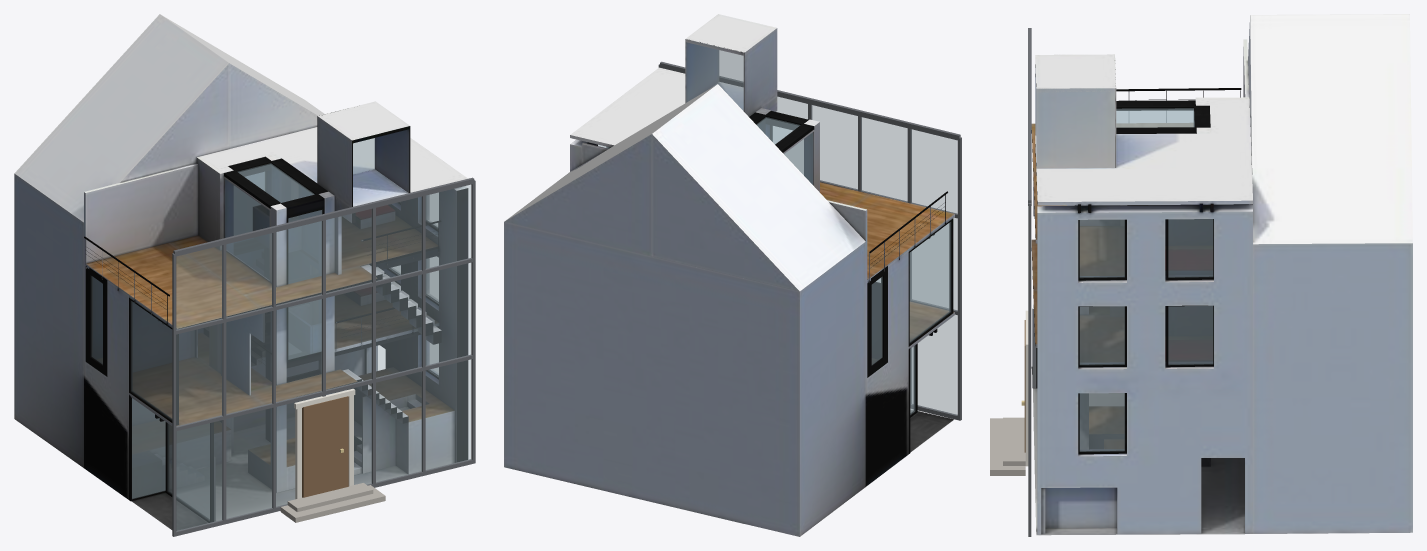
File: nha-1-lau.glb
3 views of the same model, side by side, from view 1: azimuth 30°, elevation 25°; view 2: azimuth 150°, elevation 25°; view 3: azimuth 270°, elevation 25° (orthographic). The views are drawn at different scales.
Parts seen in each view (by area): view 1: Nha lau (Vianney House 2); view 2: Nha lau (Vianney House 2); view 3: Nha lau (Vianney House 2).
Boxes of the visible parts, <box> form: Nha lau (Vianney House 2): <box>14,14,475,536</box>; Nha lau (Vianney House 2): <box>504,14,961,536</box>; Nha lau (Vianney House 2): <box>990,14,1412,536</box>.
Bounding box in the file's own units: 6.37 × 7.42 × 6.55.
Materials: 11 (4 with a texture image).
